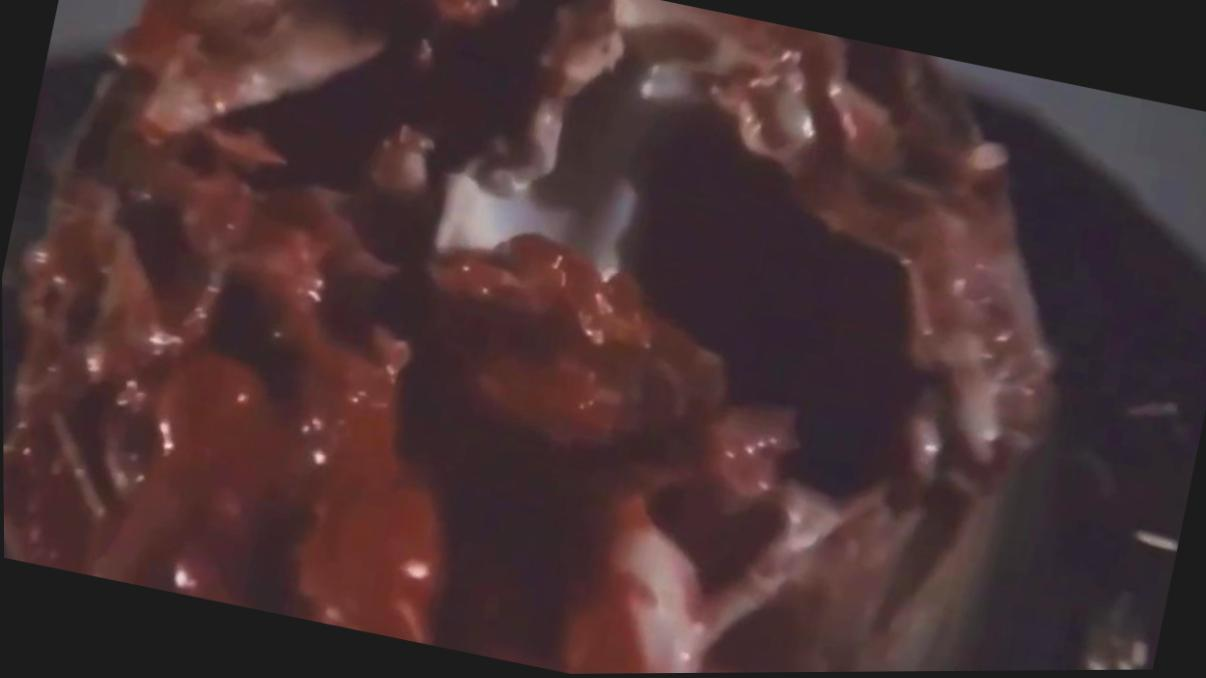Fire: (3, 0, 1053, 675)
